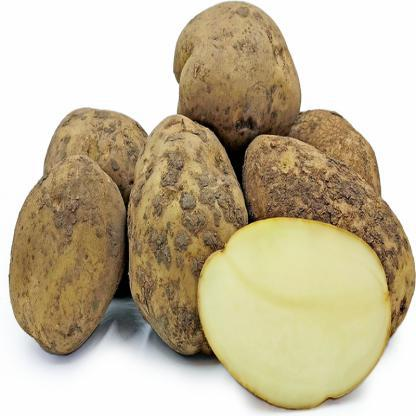potato: (193, 208, 398, 415), (120, 98, 254, 368), (0, 138, 144, 372), (160, 0, 326, 156)
